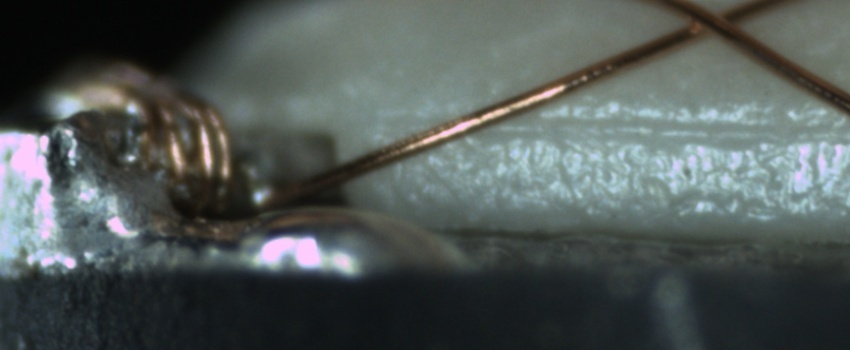CL: (667, 1, 754, 46)
DL: (377, 99, 850, 160)
TE: (47, 53, 242, 202)
